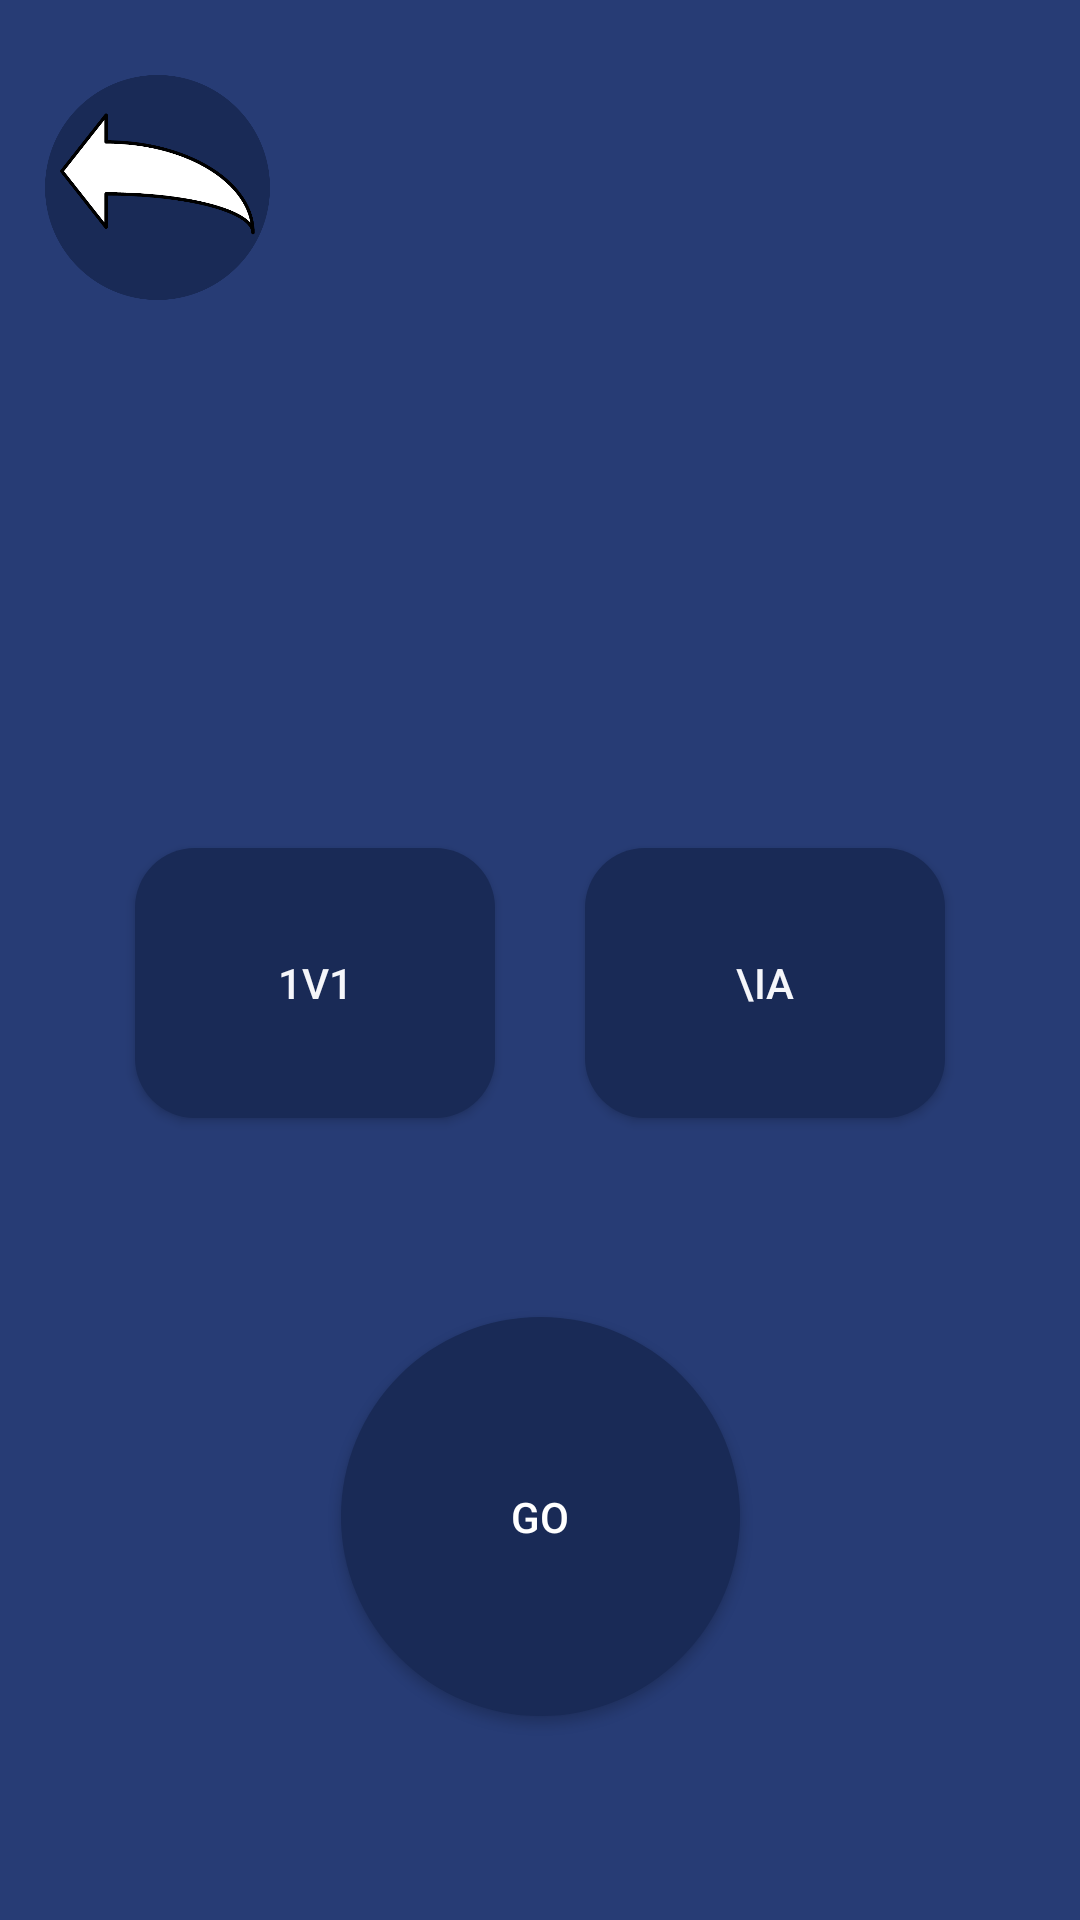

Point at icon controls on the screen. Image size 1080*1920, points as point (x, y).
retour: point (157, 187)
